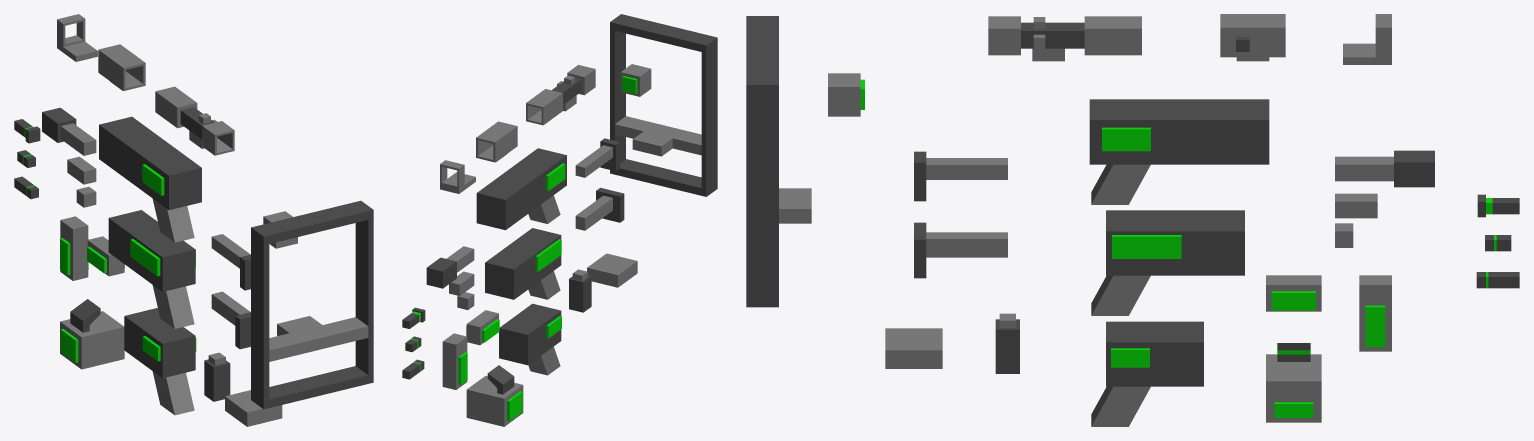
File: WeaponParts.fbx
3 views of the same model, side by side, from view 1: azimuth 30°, elevation 25°; view 2: azimuth 150°, elevation 25°; view 3: azimuth 270°, elevation 25° (orthographic). The views are drawn at different scales.
Parts seen in each view (by area): view 1: Shield, BaseBig, BaseMedium, BaseSmall, MagazineBig, ScopeBig, ScopeMedium, MagazineMedium, BarrelBig, HandGuardLow, ButtStockMedium, ScopeSmall (+8 smaller); view 2: Shield, BaseBig, BaseMedium, BaseSmall, MagazineBig, ScopeBig, MagazineMedium, ButtStockMedium, ScopeMedium, HandGuardLow, BarrelBig, ButtStockSmall (+6 smaller); view 3: BaseBig, BaseMedium, Shield, BaseSmall, ScopeBig, MagazineBig, BarrelBig, ScopeMedium, ButtStockMedium, MagazineMedium, ButtStockSmall, HandGuardLow (+7 smaller).
Boxes of the visible parts, box(x1,y1,x2,y2) form: Shield: box(251, 200, 373, 409); BaseBig: box(99, 116, 201, 242); BaseMedium: box(108, 210, 195, 328); BaseSmall: box(124, 308, 196, 415); MagazineBig: box(60, 299, 124, 369); ScopeBig: box(155, 86, 234, 155); ScopeMedium: box(98, 44, 145, 90); MagazineMedium: box(60, 216, 88, 280); BarrelBig: box(42, 107, 96, 155); HandGuardLow: box(225, 390, 282, 426); ButtStockMedium: box(211, 291, 250, 349); ScopeSmall: box(57, 14, 97, 61); Shield: box(610, 14, 717, 196); BaseBig: box(476, 148, 566, 230); BaseMedium: box(485, 228, 561, 299); BaseSmall: box(499, 303, 561, 375); MagazineBig: box(466, 365, 523, 426); ScopeBig: box(526, 65, 595, 125); MagazineMedium: box(442, 333, 467, 389); ButtStockMedium: box(575, 187, 624, 230); ScopeMedium: box(476, 121, 517, 162); HandGuardLow: box(587, 253, 637, 287); BarrelBig: box(426, 246, 474, 288); ButtStockSmall: box(575, 138, 619, 177); BaseBig: box(1089, 99, 1269, 204); BaseMedium: box(1091, 210, 1244, 315); Shield: box(746, 16, 811, 307); BaseSmall: box(1091, 321, 1203, 426); ScopeBig: box(988, 16, 1141, 61); MagazineBig: box(1266, 343, 1321, 422); BarrelBig: box(1335, 150, 1434, 187); ScopeMedium: box(1220, 14, 1285, 61); ButtStockMedium: box(914, 222, 1007, 278); MagazineMedium: box(1359, 275, 1391, 351); ButtStockSmall: box(914, 151, 1007, 201); HandGuardLow: box(885, 328, 942, 368).
Size of the model in its own units: 200 by 542 by 946.
